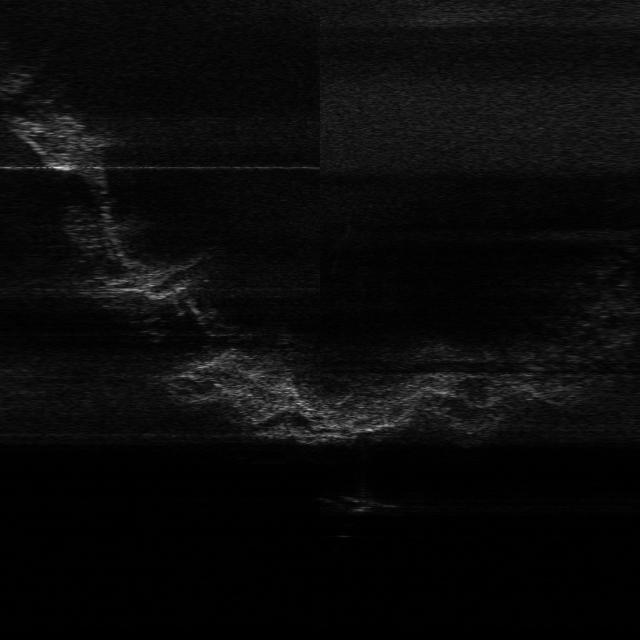plane: (339, 484, 402, 513)
